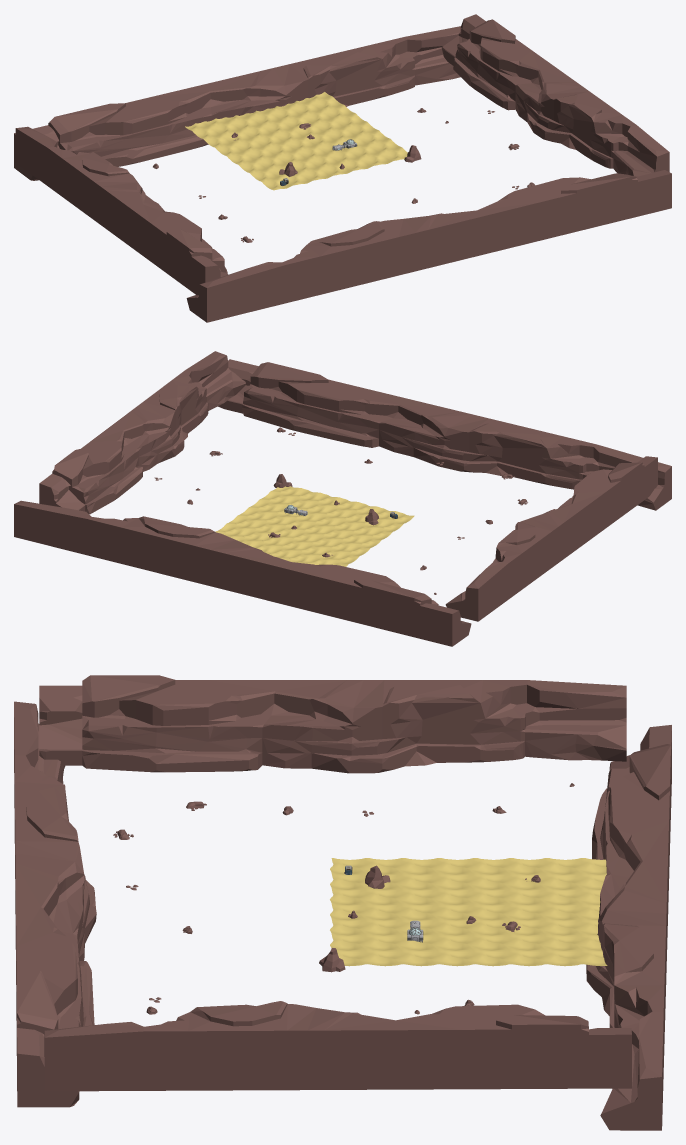
File: FirstLevel.glb
3 renders of one model, top to bottom at view 1: azimuth 30°, elevation 25°; view 2: azimuth 150°, elevation 25°; view 3: azimuth 270°, elevation 25°, orthographic. The views are drawn at different scales.
Parts seen in each view (by area): view 1: Cliff_Cube.003, Cliff_Cube.002, Cliff_Cube.001, Cliff_Cube.021, Plane; view 2: Cliff_Cube.003, Cliff_Cube.002, Cliff_Cube.001, Cliff_Cube.021, Plane; view 3: Cliff_Cube.021, Cliff_Cube.001, Plane, Cliff_Cube.002, Cliff_Cube.003.
Part boxes in pixels (bbox=[...]): Cliff_Cube.003: bbox=[186, 170, 671, 322]; Cliff_Cube.002: bbox=[14, 26, 460, 180]; Cliff_Cube.001: bbox=[442, 14, 669, 176]; Cliff_Cube.021: bbox=[15, 126, 228, 295]; Plane: bbox=[185, 92, 407, 190]; Cliff_Cube.003: bbox=[218, 359, 671, 510]; Cliff_Cube.002: bbox=[14, 500, 471, 646]; Cliff_Cube.001: bbox=[39, 351, 245, 514]; Cliff_Cube.021: bbox=[445, 456, 657, 621]; Plane: bbox=[215, 486, 414, 566]; Cliff_Cube.021: bbox=[39, 675, 626, 773]; Cliff_Cube.001: bbox=[44, 1001, 631, 1091]; Plane: bbox=[330, 858, 607, 966]; Cliff_Cube.002: bbox=[586, 725, 671, 1130]; Cliff_Cube.003: bbox=[14, 701, 96, 1107].
Size of what is drawn, in the model's own units: 329 by 39.04 by 249.
Materials: 7 (1 with a texture image).
